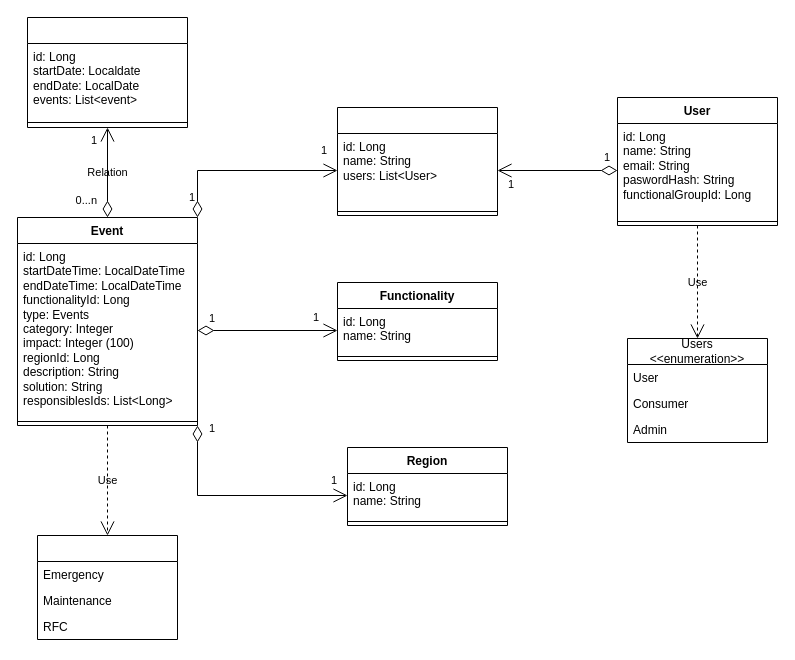
This 795x660 diagram has some shape labels left out. Here are the shapes that lost their labels. From the top down, the box of each, then its label:
(26, 16, 188, 128): Report
(336, 106, 498, 216): FunctionalGroup
(36, 534, 178, 640): Events <<enumeration>>
